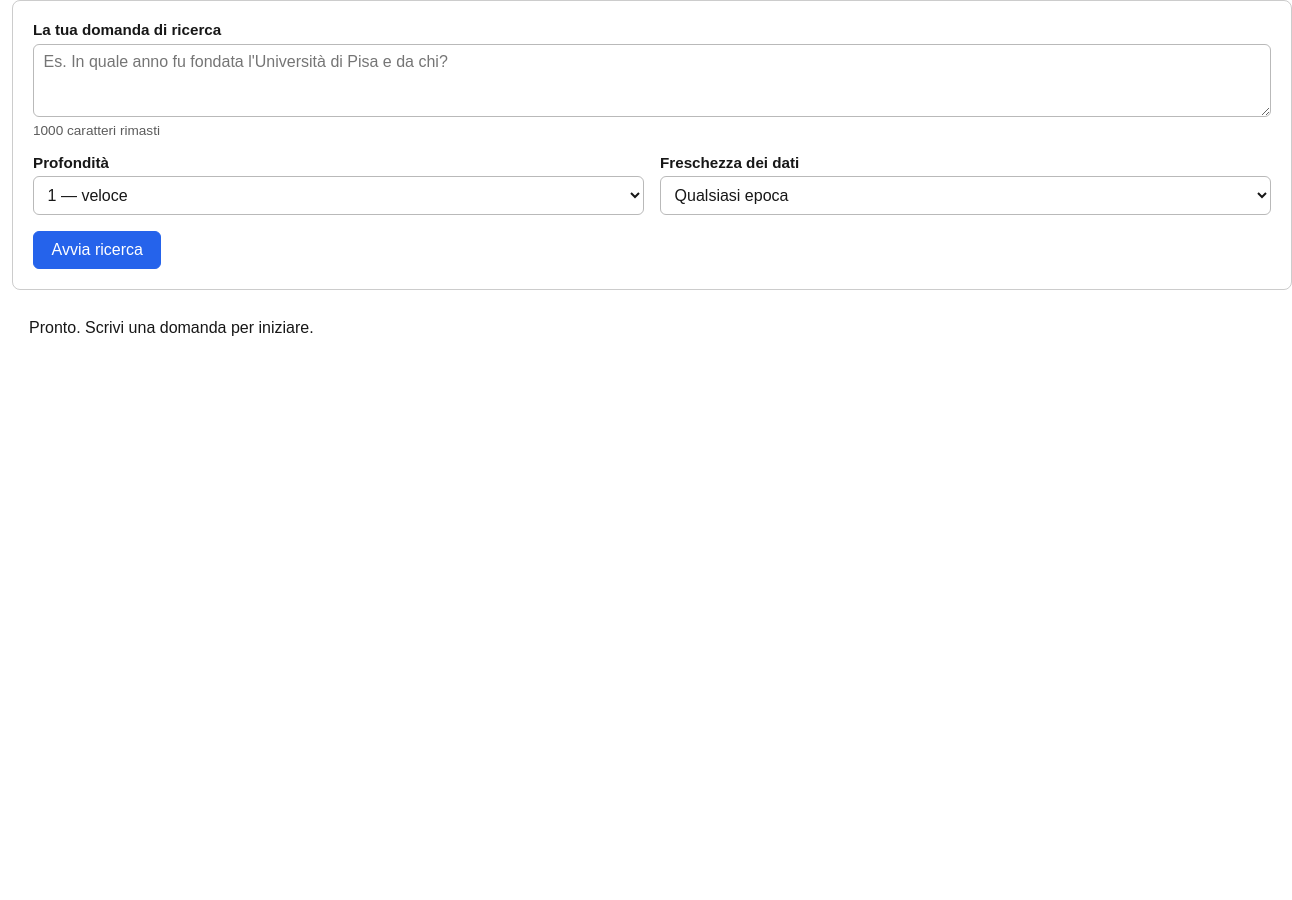
Test case: ResearchRun › flusso completo: lo stato UI riflette il done del server
Type "In quale anno fu fondata l'Università di Pisa e da chi?" into the text box labelled "La tua domanda di ricerca" at (652, 80), box x1=33 y1=44 x2=1271 y2=117
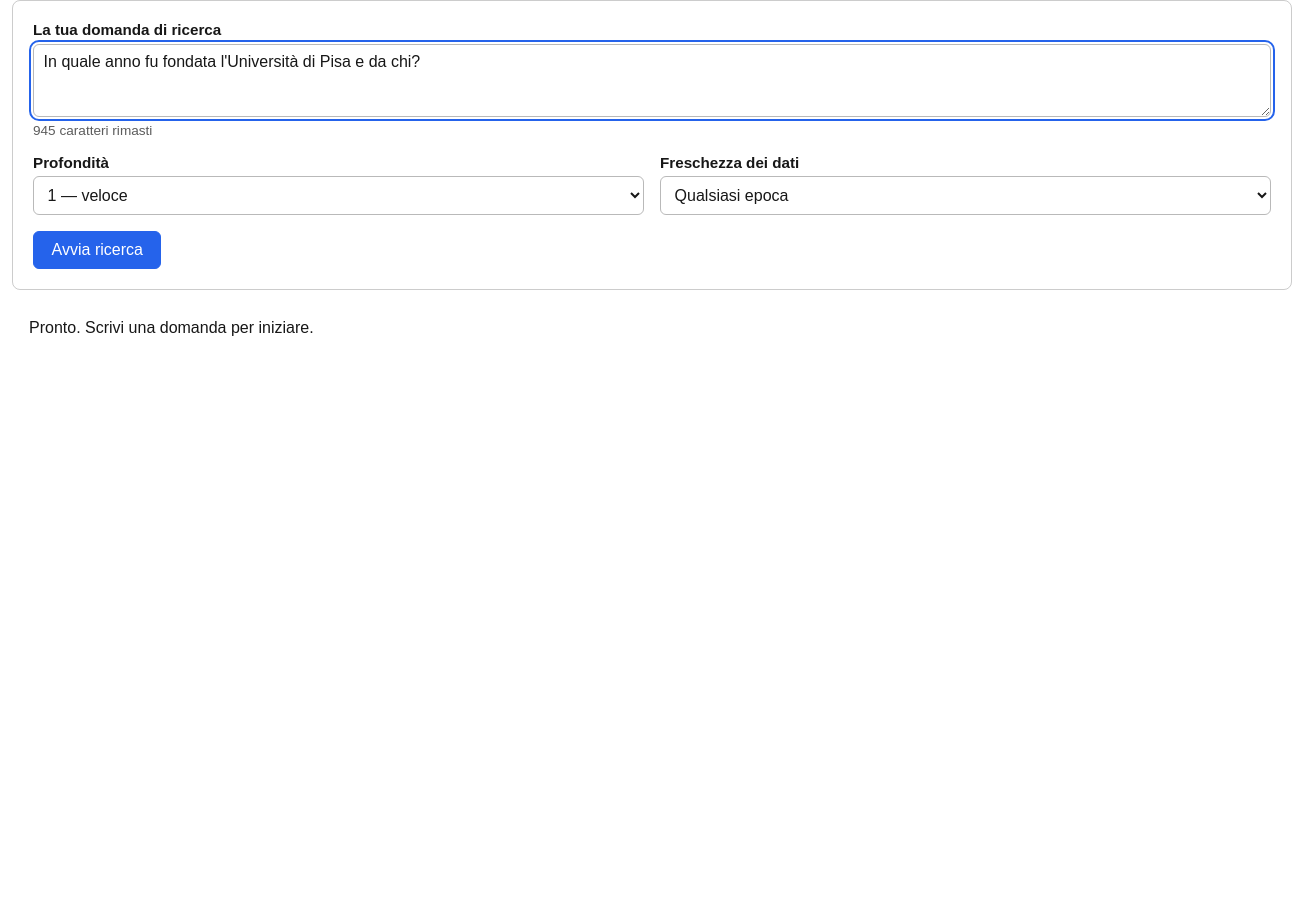
Click the button "Avvia ricerca" at (97, 250), box x1=33 y1=231 x2=162 y2=269
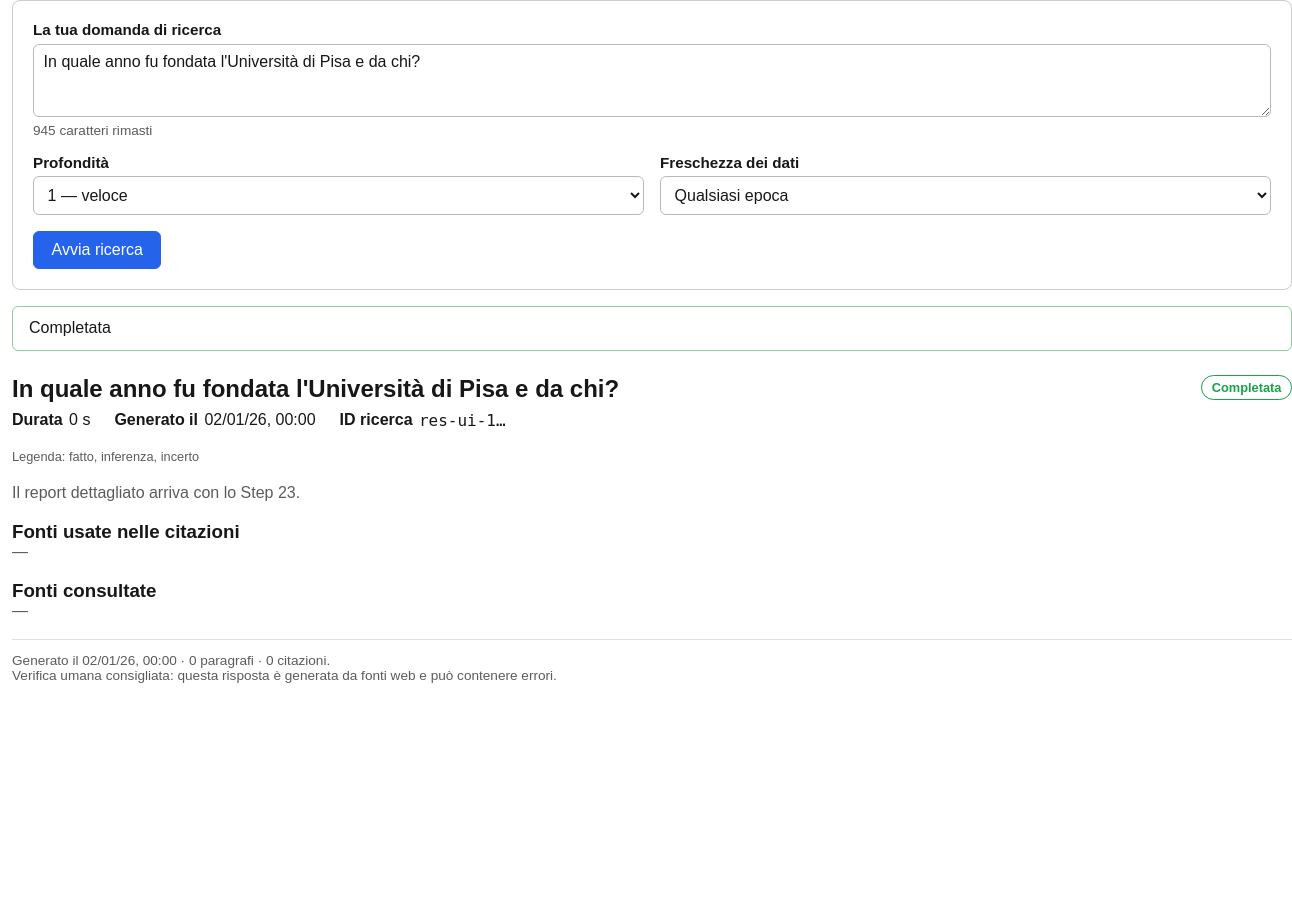
Result: the 1st text "Completata" is shown at x1=29 y1=319 x2=111 y2=337
